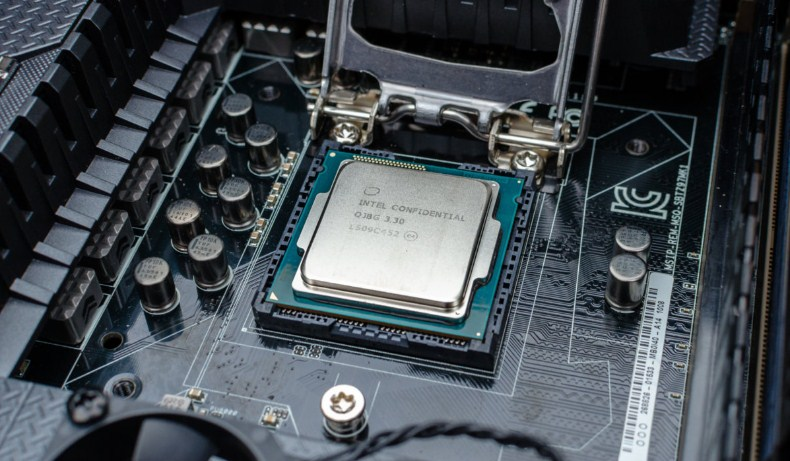processor: (264, 149, 524, 341)
